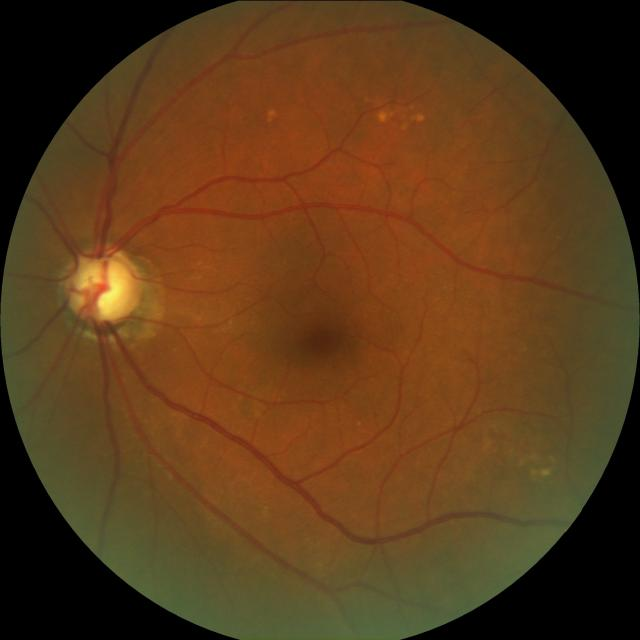OC: (68, 254, 132, 320)
OD: (59, 245, 143, 328)
